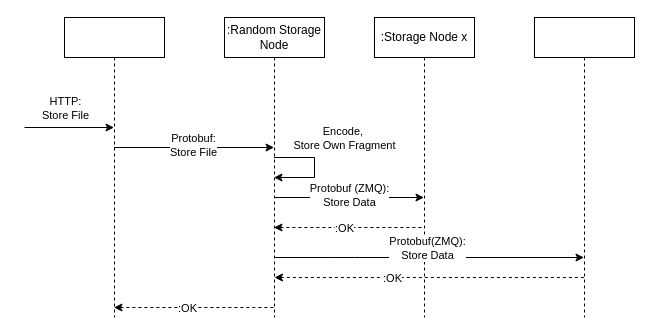
This 652x335 diagram has some shape labels left out. Each missing label, with the box of its shape:
:Lead Node: (64, 16, 164, 318)
:Storage Node y: (534, 16, 634, 318)
